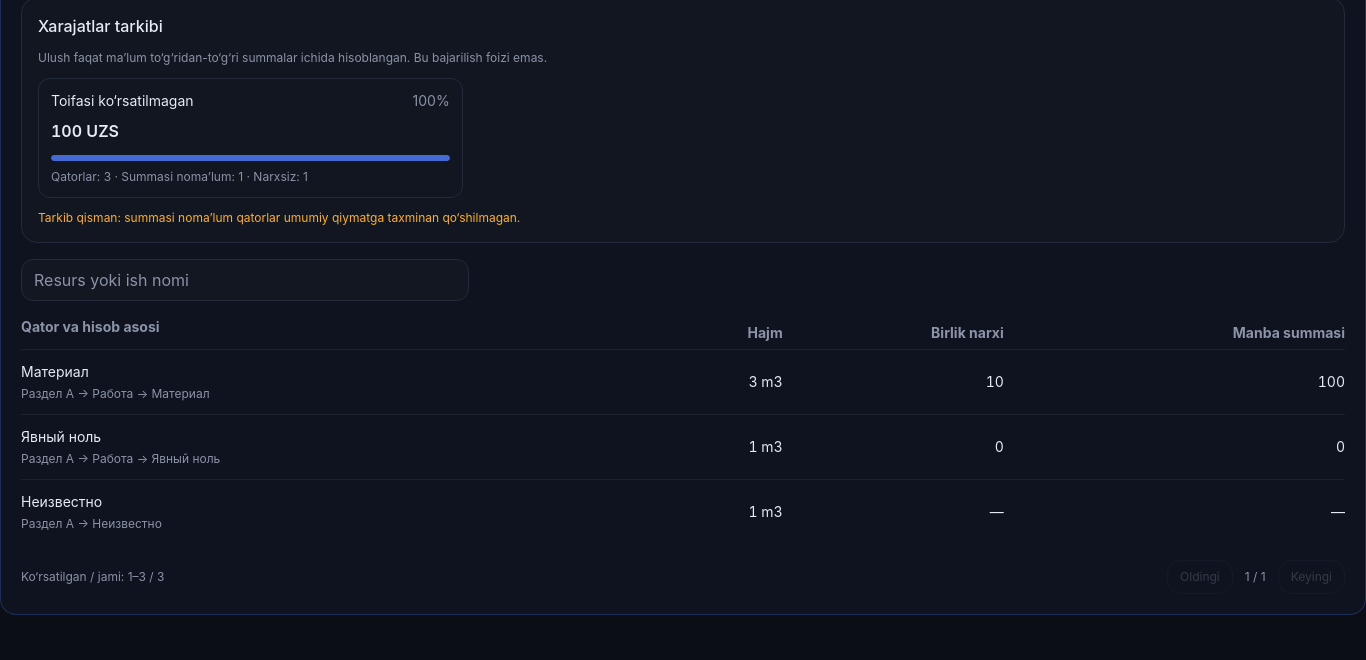
Test: shows unknown quantities and a source difference instead of fixing amounts
This screenshot has width=1366, height=660.
Click the button "Материал" at coordinates (55, 372), box [21,362,89,382]
(page scrolled)
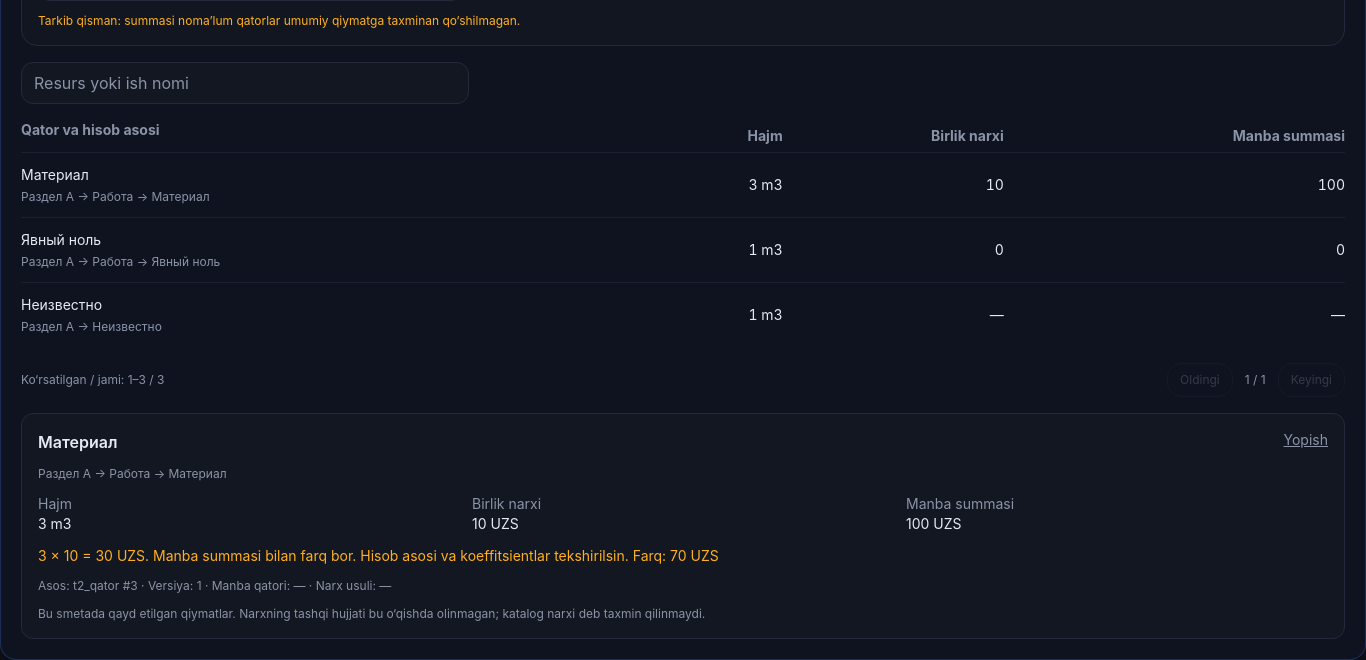
Expected: the text "Manba summasi bilan farq bor" is shown, [153,547,629,564]
